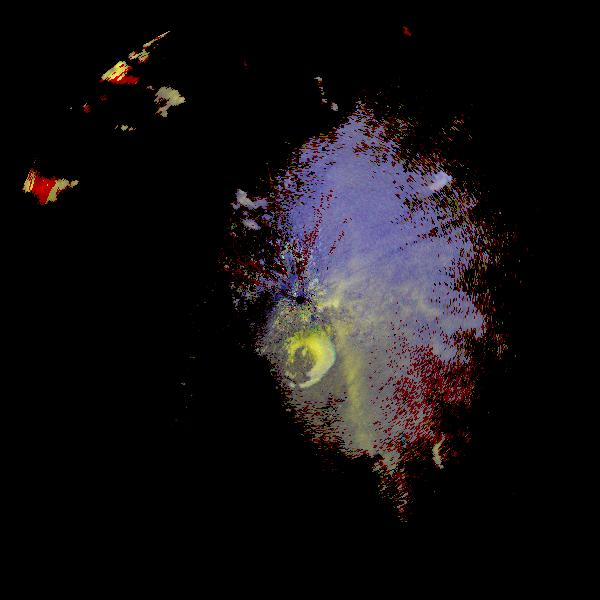roost: (266, 321, 347, 402), (409, 161, 484, 236), (427, 425, 487, 485), (256, 160, 298, 202)
